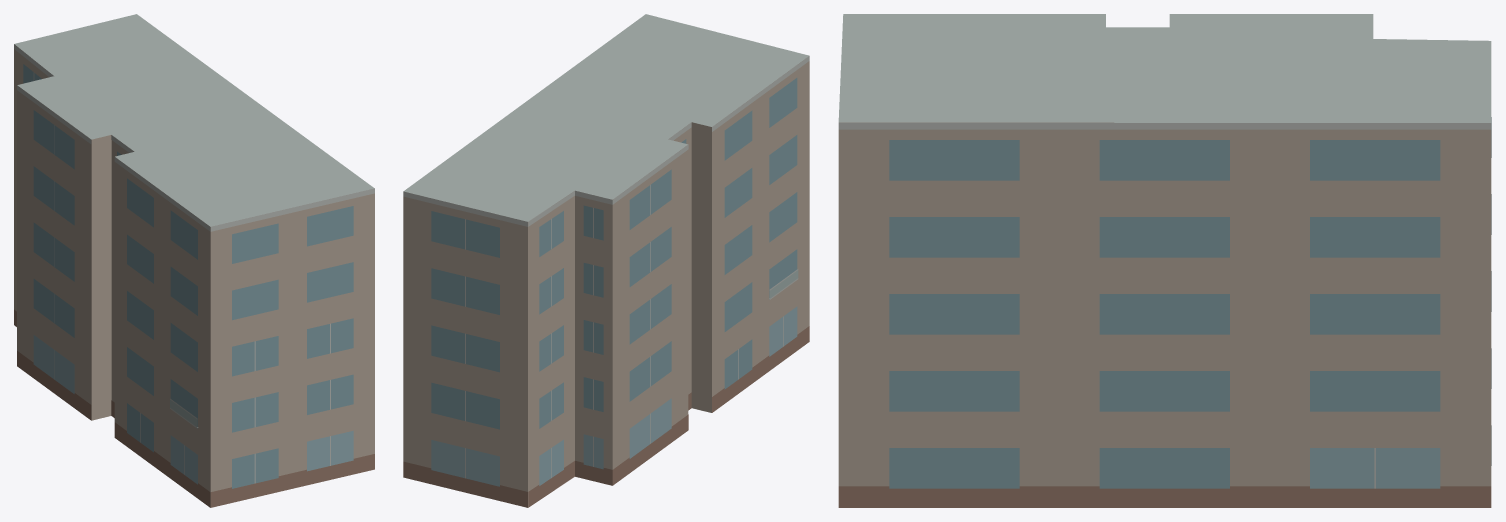
Rendered from survey-upis-33015440.glb.
3 views of the same model, side by side, from view 1: azimuth 30°, elevation 25°; view 2: azimuth 150°, elevation 25°; view 3: azimuth 270°, elevation 25° (orthographic). The views are drawn at different scales.
Visible parts, largest first — view 1: survey-upis-33015440.tmp; view 2: survey-upis-33015440.tmp; view 3: survey-upis-33015440.tmp.
Part boxes in pixels (x1=…): survey-upis-33015440.tmp: x1=14, y1=14, x2=374, y2=507; survey-upis-33015440.tmp: x1=403, y1=14, x2=809, y2=507; survey-upis-33015440.tmp: x1=838, y1=14, x2=1491, y2=507.
Size of the model in its own units: 8.35 by 13.7 by 21.06.
